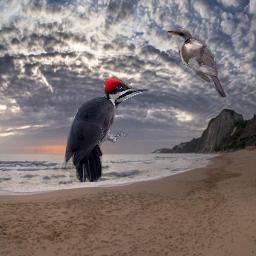Cuckoo: (165, 26, 226, 99)
Woodpecker: (61, 77, 150, 182)
